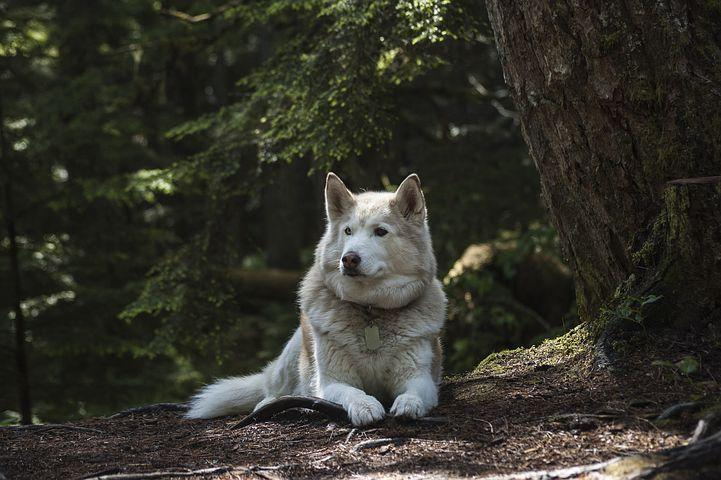Wolf: (185, 168, 450, 427)
